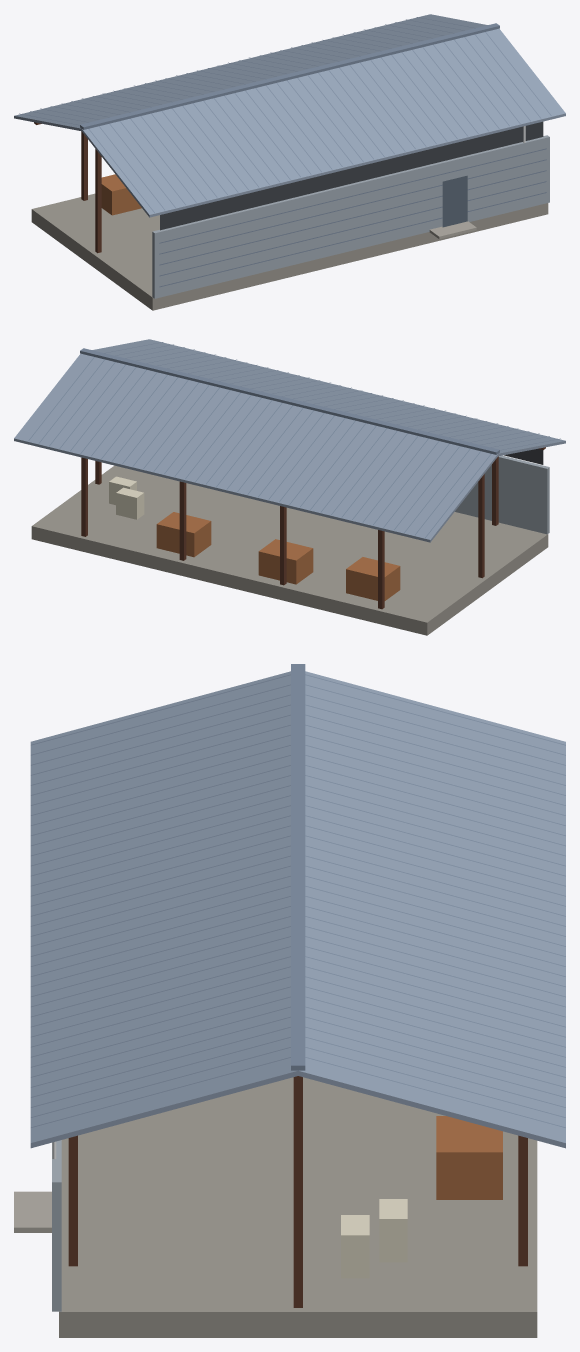
The picture shows the model from 3 angles, top to bottom: view 1: azimuth 30°, elevation 25°; view 2: azimuth 150°, elevation 25°; view 3: azimuth 270°, elevation 25°; orthographic projection. The views are drawn at different scales.
Parts seen in each view (by area): view 1: w451575561__roof-metal, w451575561__siding-wall, w451575561__roof-seam, w451575561__foundation-wall, w451575561__vent-dark, w451575561__door-wall, w451575561__steel-rust, w451575561__wood-pile, w451575561__threshold; view 2: w451575561__roof-metal, w451575561__foundation-wall, w451575561__roof-seam, w451575561__wood-pile, w451575561__siding-wall, w451575561__steel-rust, w451575561__sack; view 3: w451575561__roof-metal, w451575561__foundation-wall, w451575561__roof-seam, w451575561__wood-pile, w451575561__steel-rust, w451575561__sack, w451575561__siding-wall, w451575561__threshold.
Part boxes in pixels (bbox=[...]): w451575561__roof-metal: bbox=[14, 14, 565, 217]; w451575561__siding-wall: bbox=[152, 135, 549, 298]; w451575561__roof-seam: bbox=[19, 17, 551, 287]; w451575561__foundation-wall: bbox=[31, 193, 548, 310]; w451575561__vent-dark: bbox=[160, 121, 543, 230]; w451575561__door-wall: bbox=[442, 175, 467, 227]; w451575561__steel-rust: bbox=[34, 122, 101, 253]; w451575561__wood-pile: bbox=[101, 174, 141, 215]; w451575561__threshold: bbox=[429, 221, 476, 239]; w451575561__roof-metal: bbox=[14, 339, 565, 542]; w451575561__foundation-wall: bbox=[31, 465, 548, 635]; w451575561__roof-seam: bbox=[28, 342, 560, 537]; w451575561__wood-pile: bbox=[156, 512, 400, 600]; w451575561__siding-wall: bbox=[455, 455, 549, 534]; w451575561__steel-rust: bbox=[81, 447, 545, 609]; w451575561__sack: bbox=[109, 476, 144, 519]; w451575561__roof-metal: bbox=[30, 671, 565, 1148]; w451575561__foundation-wall: bbox=[59, 1077, 537, 1337]; w451575561__roof-seam: bbox=[30, 664, 565, 1127]; w451575561__wood-pile: bbox=[436, 1116, 502, 1199]; w451575561__steel-rust: bbox=[68, 1076, 527, 1307]; w451575561__sack: bbox=[341, 1199, 407, 1278]; w451575561__siding-wall: bbox=[52, 1140, 61, 1311]; w451575561__threshold: bbox=[14, 1191, 51, 1232].
Size of the model in its own units: 19.94 by 6.54 by 11.59.
